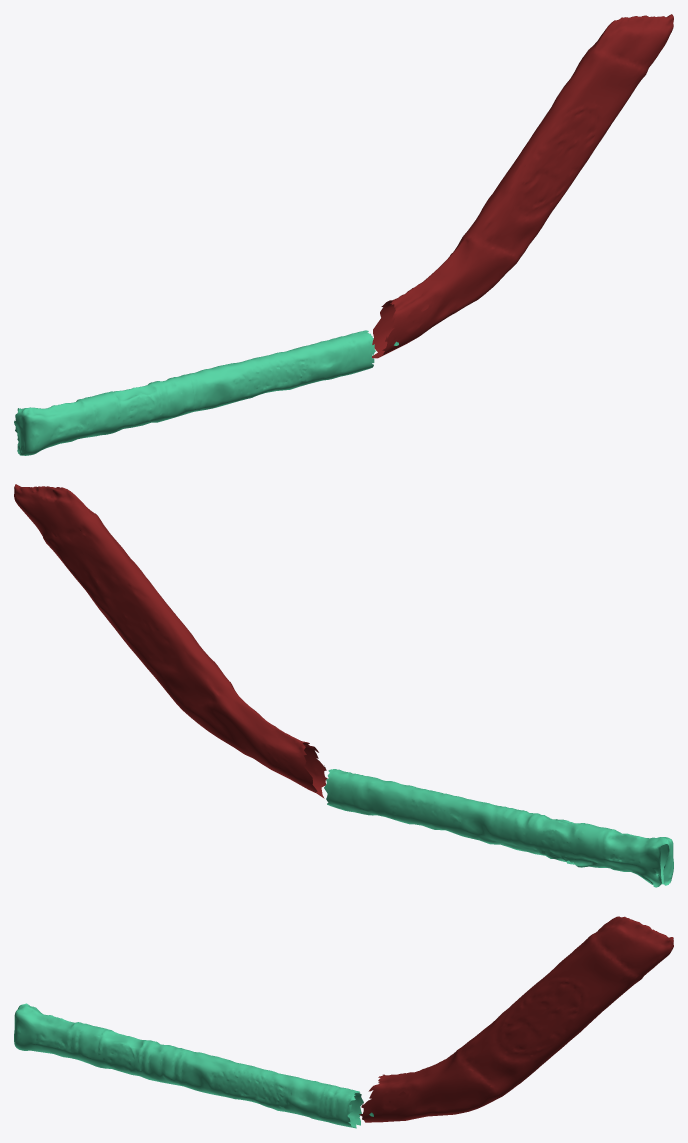
Rendered from object_deformed_7.obj.
The picture shows the model from 3 angles, top to bottom: view 1: azimuth 30°, elevation 25°; view 2: azimuth 150°, elevation 25°; view 3: azimuth 330°, elevation 25°; orthographic projection. The views are drawn at different scales.
Size of the model in its own units: 0.7829 by 0.3093 by 0.0616.
